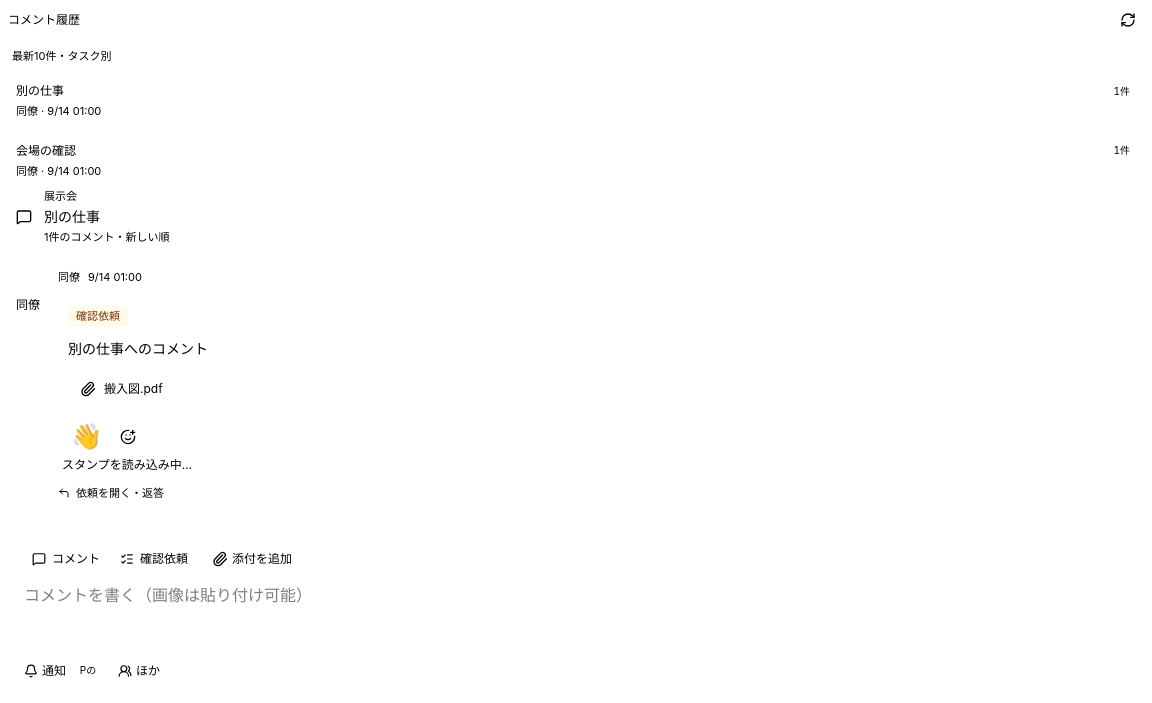
Test case: retains the selected task when a new comment changes its latest item, and falls back if the task disappears
This screenshot has width=1152, height=703.
Click the button with aria-label "展示会 / 会場の確認のコメント（1件）" at (46, 151), box top-left (6, 132), bottom-right (1146, 188)
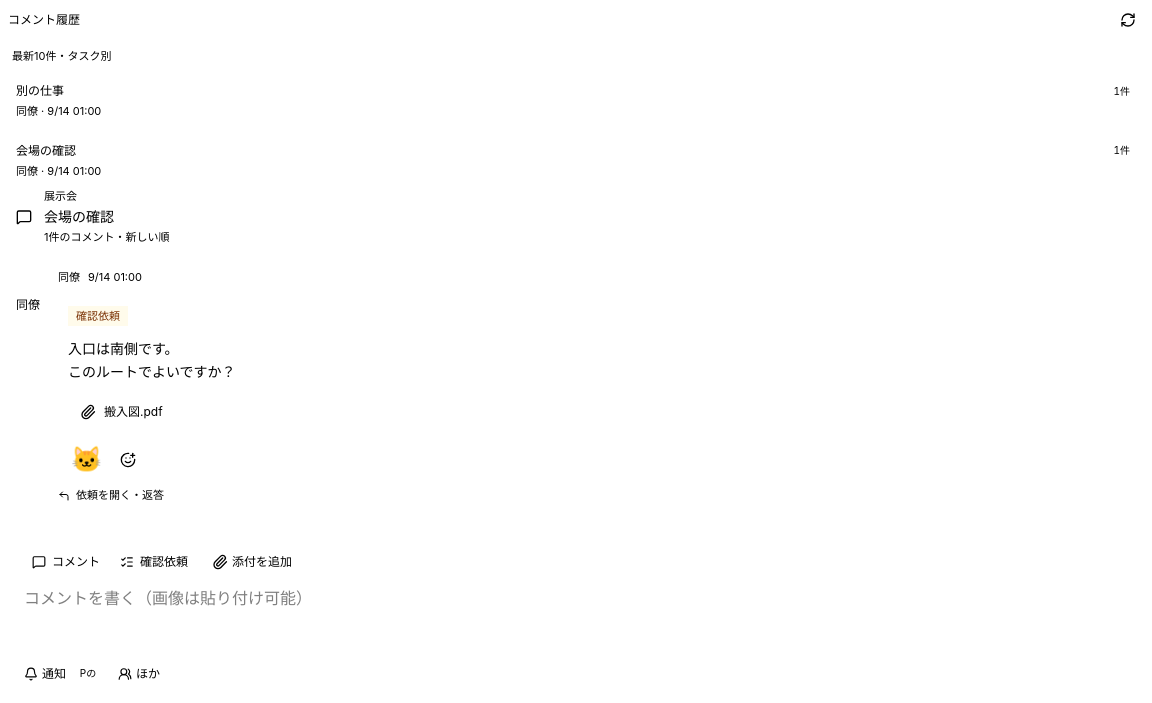
Check: the element named "コメントの内容" shows "入口は南側です。", box top-left (68, 340), bottom-right (236, 380)
Click the button named "コメントを更新" at (1128, 20), box top-left (1112, 4), bottom-right (1144, 36)
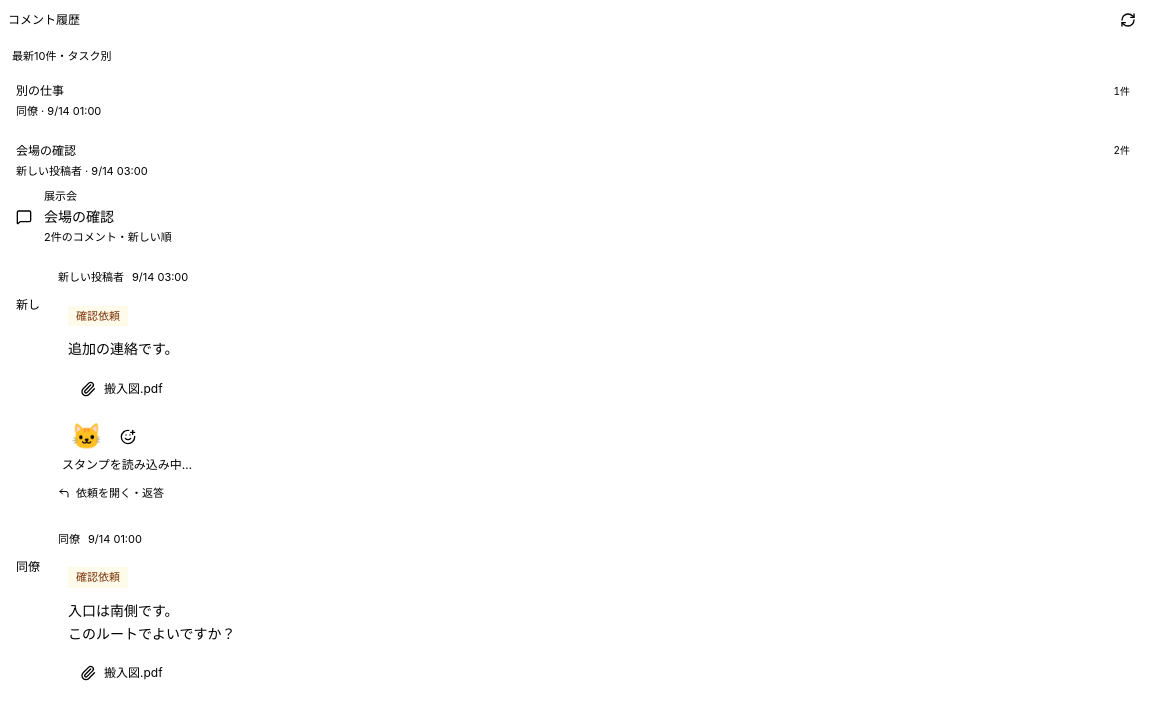
Check: the text "別の仕事へのコメント" is not shown
Check: the text "追加の連絡です。" is shown, box top-left (68, 338), bottom-right (179, 361)
Click the button named "コメントを更新" at (1128, 20), box top-left (1112, 4), bottom-right (1144, 36)
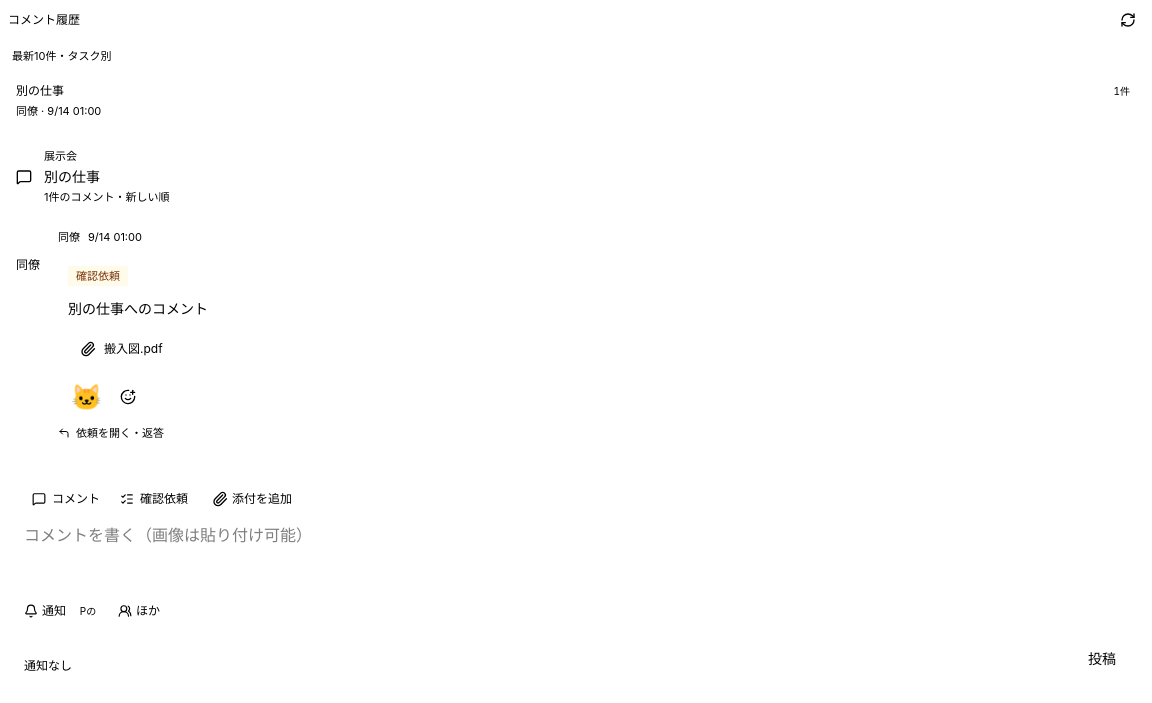
Check: the text "別の仕事へのコメント" is shown, box top-left (68, 298), bottom-right (208, 321)
Check: the text "追加の連絡です。" is gone
